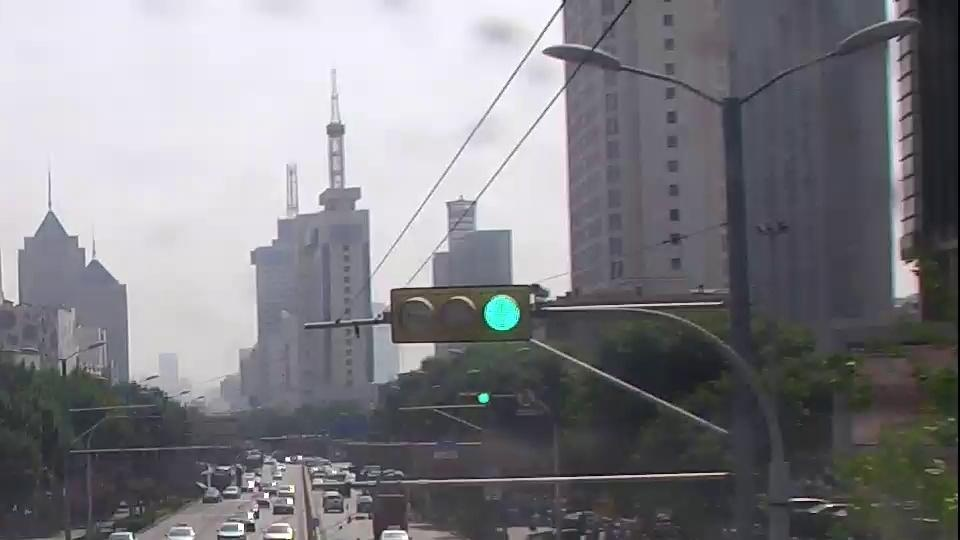green: (483, 291, 523, 333), (477, 390, 491, 404)
